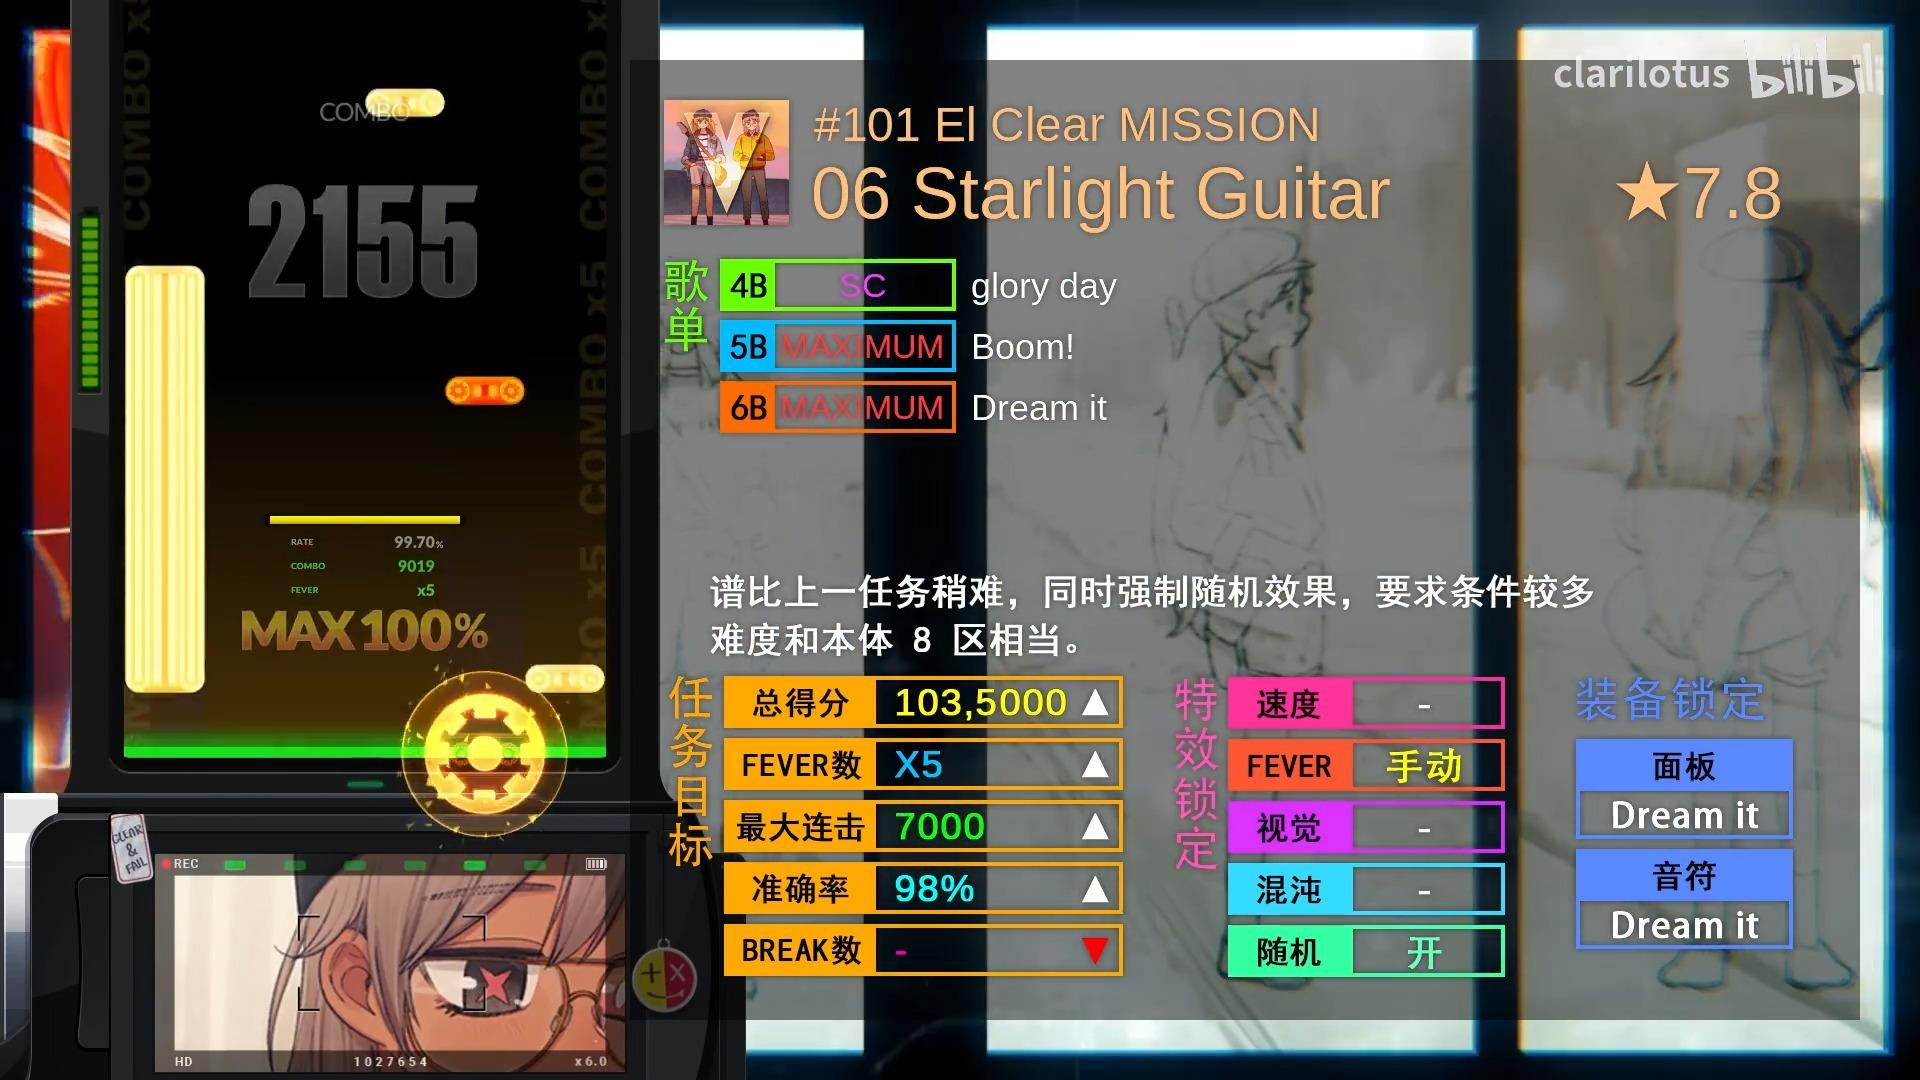hold-end: (124, 667, 206, 694), (125, 265, 204, 291)
note: (446, 376, 525, 406), (525, 665, 605, 694), (365, 88, 444, 117)
